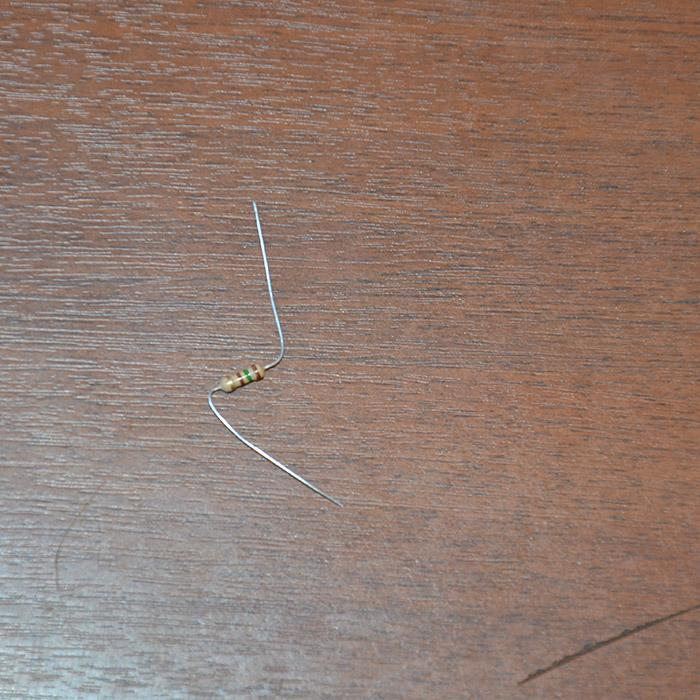resistor: (213, 362, 266, 394)
